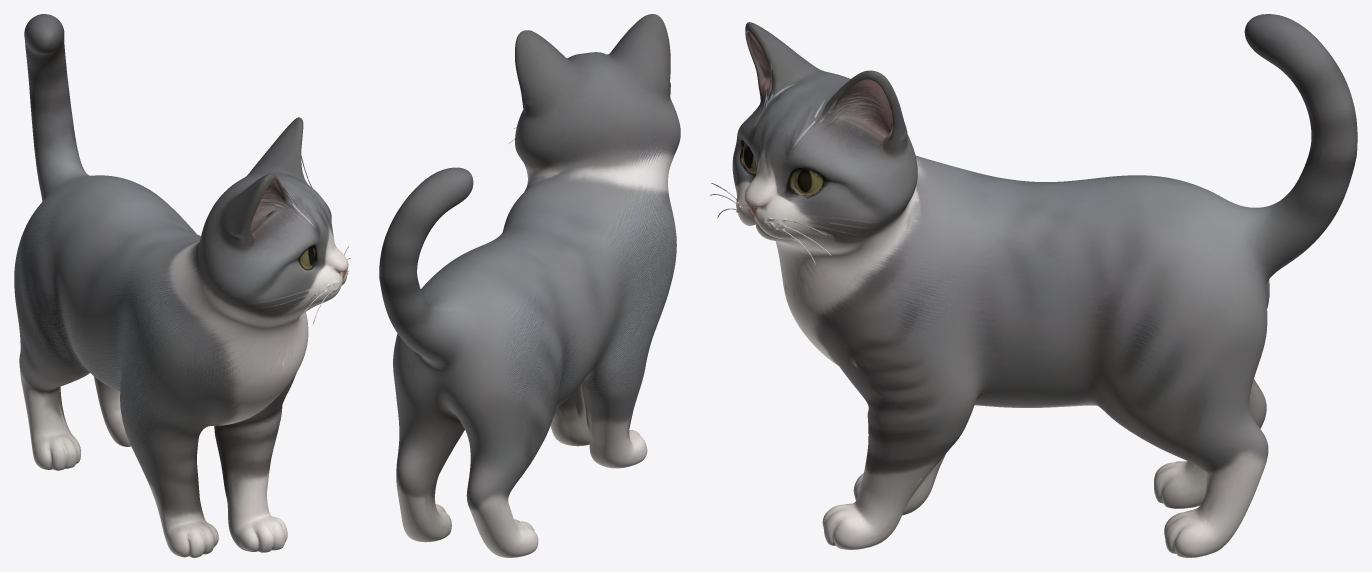
File: cat-1.glb
3 renders of one model, left to right at view 1: azimuth 30°, elevation 25°; view 2: azimuth 150°, elevation 25°; view 3: azimuth 270°, elevation 25°, orthographic. The views are drawn at different scales.
Parts seen in each view (by area): view 1: node_0; view 2: node_0; view 3: node_0.
Boxes of the visible parts, left/top/right/bottom form: node_0: left=14, top=14, right=350, bottom=557; node_0: left=379, top=14, right=680, bottom=557; node_0: left=710, top=14, right=1357, bottom=557.
Size of the model in its own units: 0.3902 by 0.8244 by 0.9755.
Materials: 1 (1 with a texture image).
